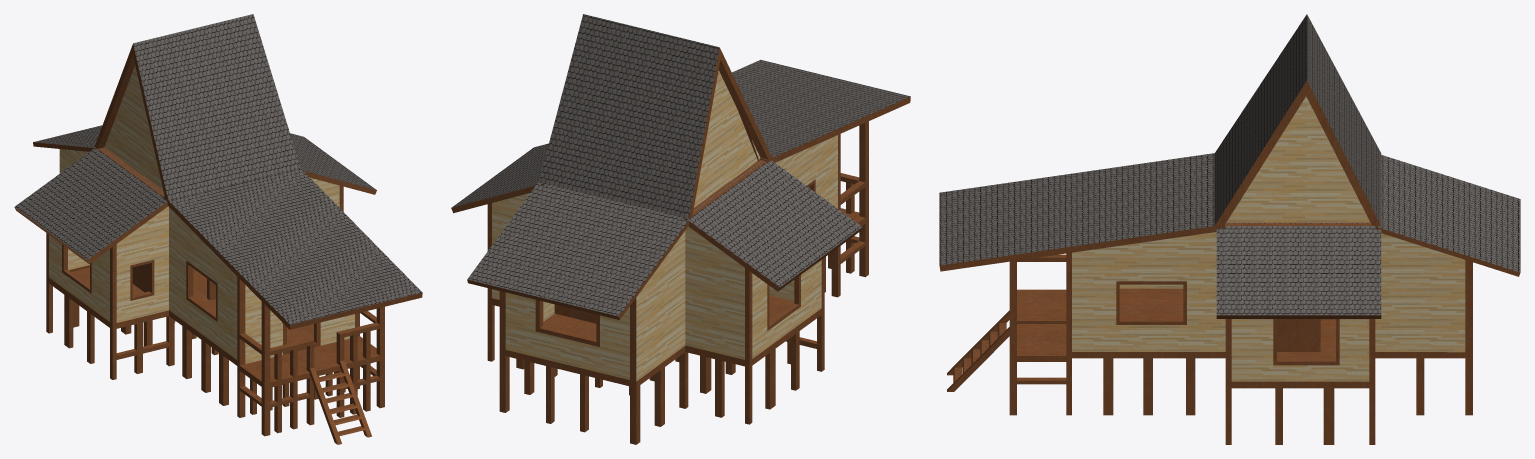
The model's file is bubungan-tinggi.glb.
3 renders of one model, left to right at view 1: azimuth 30°, elevation 25°; view 2: azimuth 150°, elevation 25°; view 3: azimuth 270°, elevation 25°, orthographic. The views are drawn at different scales.
Parts seen in each view (by area): view 1: Object_6, Object_4, Object_5; view 2: Object_6, Object_5, Object_4; view 3: Object_6, Object_5, Object_4.
Part boxes in pixels (x1,y1,x2,y2): Object_6: (15, 14, 422, 324); Object_4: (14, 44, 422, 444); Object_5: (49, 65, 354, 363); Object_6: (451, 14, 910, 316); Object_5: (492, 70, 837, 381); Object_4: (451, 47, 910, 444); Object_6: (939, 14, 1520, 315); Object_5: (1072, 96, 1465, 381); Object_4: (939, 81, 1520, 444).
Bounding box in the file's own units: 13.67 × 13.37 × 21.03.
Materials: 3 (3 with a texture image).
